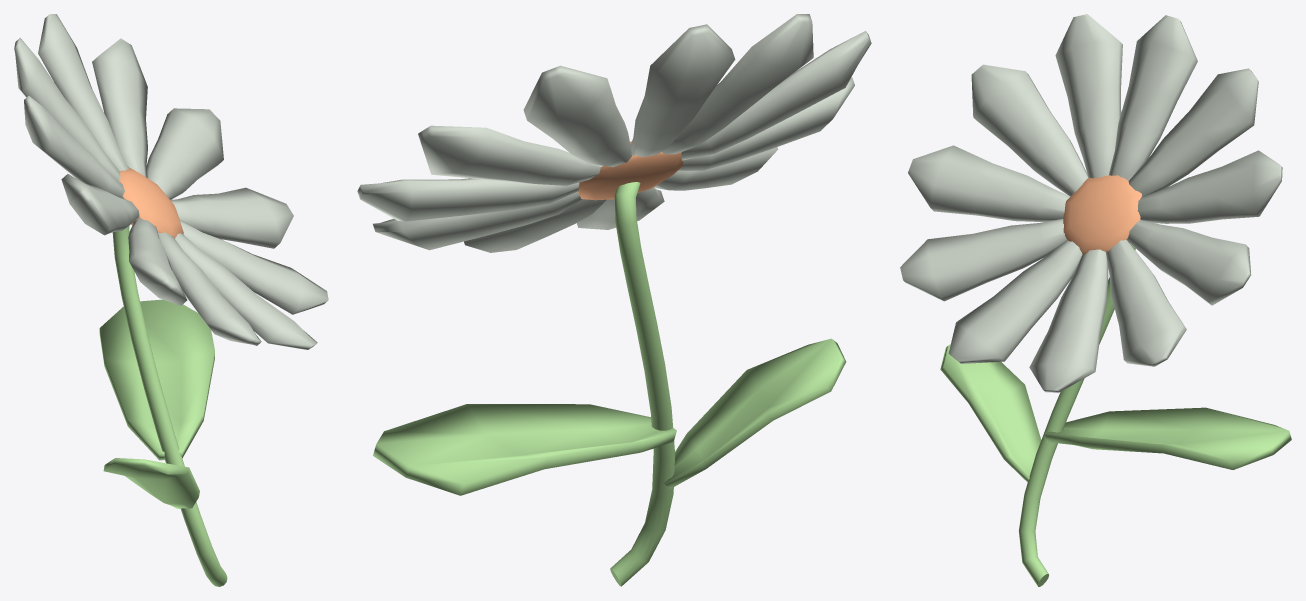
Rendered from FlowerAR3.glb.
3 views of the same model, side by side, from view 1: azimuth 30°, elevation 25°; view 2: azimuth 150°, elevation 25°; view 3: azimuth 270°, elevation 25° (orthographic). The views are drawn at different scales.
Parts seen in each view (by area): view 1: 平面.011, 贝塞尔曲线, 平面.004, 平面.003, 平面.002, 平面.005, 平面.001, 平面.006, 平面.007, 平面.010, 平面, 平面.012 (+3 smaller); view 2: 平面.011, 平面.012, 贝塞尔曲线, 平面, 平面.002, 平面.001, 平面.010, 平面.003, 平面.009, 平面.004, 平面.008, 球体 (+3 smaller); view 3: 平面.011, 平面.008, 平面.009, 平面.007, 平面, 平面.010, 平面.006, 平面.001, 平面.005, 平面.002, 平面.012, 平面.004 (+3 smaller).
Boxes of the visible parts, x1,y1,x2,y2 form: 平面.011: [99, 299, 214, 460]; 贝塞尔曲线: [112, 225, 227, 586]; 平面.004: [170, 187, 293, 248]; 平面.003: [146, 108, 223, 199]; 平面.002: [92, 38, 147, 177]; 平面.005: [179, 220, 328, 314]; 平面.001: [38, 14, 128, 171]; 平面.006: [175, 233, 317, 349]; 平面.007: [158, 232, 261, 345]; 平面.010: [24, 96, 124, 196]; 平面: [14, 37, 120, 180]; 平面.012: [103, 458, 199, 508]; 平面.011: [373, 404, 676, 495]; 平面.012: [664, 338, 846, 488]; 贝塞尔曲线: [610, 182, 674, 586]; 平面: [630, 24, 735, 157]; 平面.002: [418, 125, 600, 185]; 平面.001: [523, 65, 631, 167]; 平面.010: [662, 14, 813, 154]; 平面.003: [357, 178, 579, 221]; 平面.009: [681, 31, 871, 160]; 平面.004: [373, 192, 582, 250]; 平面.008: [677, 77, 854, 171]; 球体: [577, 141, 683, 200]; 平面.011: [1044, 407, 1291, 469]; 平面.008: [908, 145, 1070, 221]; 平面.009: [971, 64, 1088, 196]; 平面.007: [900, 219, 1066, 301]; 平面: [1109, 15, 1197, 180]; 平面.010: [1055, 14, 1122, 178]; 平面.006: [948, 239, 1082, 363]; 平面.001: [1128, 68, 1258, 196]; 平面.005: [1029, 249, 1108, 392]; 平面.002: [1137, 150, 1282, 223]; 平面.012: [940, 344, 1041, 482]; 平面.004: [1106, 240, 1186, 366].
Size of the model in its own units: 3.22 by 5.32 by 3.72.
